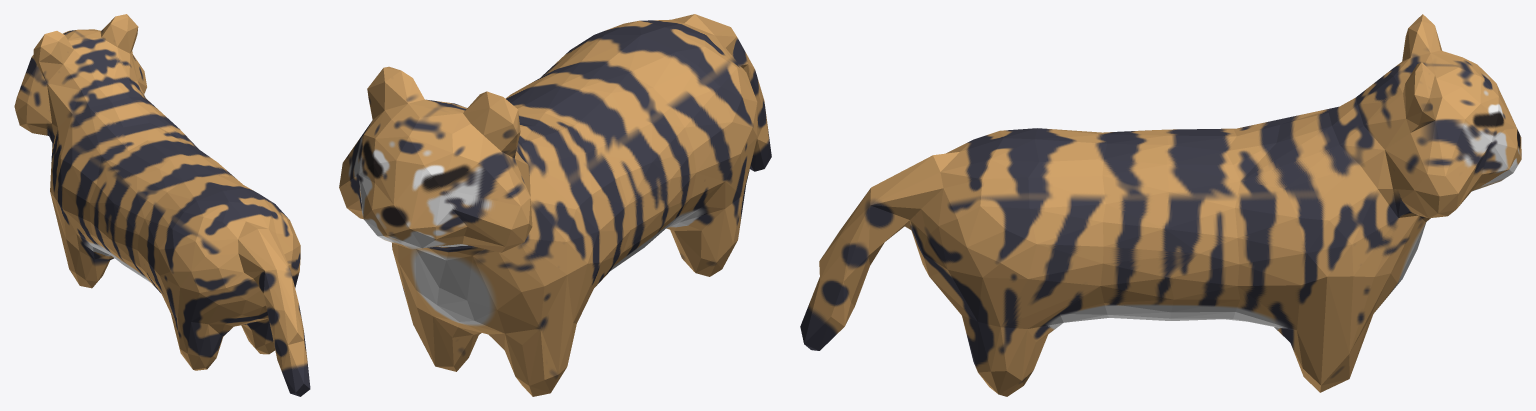
File: animal_tiger_blob.obj
The picture shows the model from 3 angles, left to right: view 1: azimuth 30°, elevation 25°; view 2: azimuth 150°, elevation 25°; view 3: azimuth 270°, elevation 25°; orthographic projection. The views are drawn at different scales.
Visible parts, largest first — view 1: animal_tiger_blob; view 2: animal_tiger_blob; view 3: animal_tiger_blob.
Boxes of the visible parts, x1=… form: animal_tiger_blob: x1=14, y1=14, x2=310, y2=396; animal_tiger_blob: x1=339, y1=14, x2=771, y2=396; animal_tiger_blob: x1=800, y1=14, x2=1521, y2=396.
Bounding box in the file's own units: 0.5044 × 0.8562 × 1.69.
